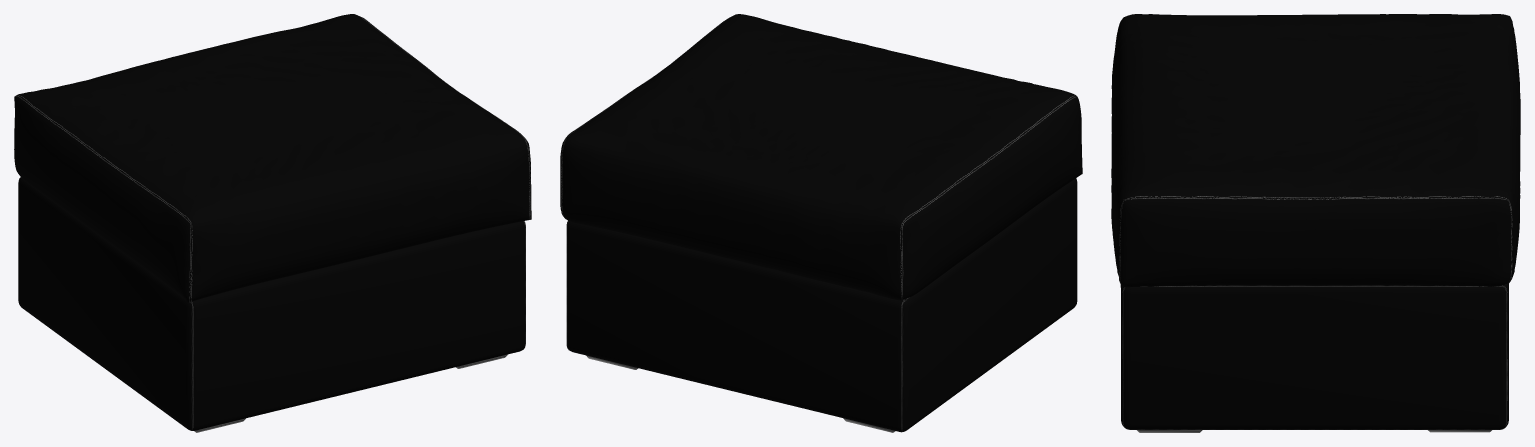
Rendered from pouf.glb.
3 views of the same model, side by side, from view 1: azimuth 30°, elevation 25°; view 2: azimuth 150°, elevation 25°; view 3: azimuth 270°, elevation 25° (orthographic). The views are drawn at different scales.
Parts seen in each view (by area): view 1: bottom coushion2, base; view 2: bottom coushion2, base; view 3: bottom coushion2, base.
Part boxes in pixels (x1,y1,x2,y2): bottom coushion2: [14, 14, 531, 302]; base: [18, 177, 525, 430]; bottom coushion2: [560, 14, 1082, 300]; base: [566, 178, 1077, 432]; bottom coushion2: [1111, 14, 1520, 287]; base: [1121, 283, 1508, 429].
Size of the model in its own units: 0.6978 by 0.4281 by 0.6283.
Materials: 2 (1 with a texture image).
